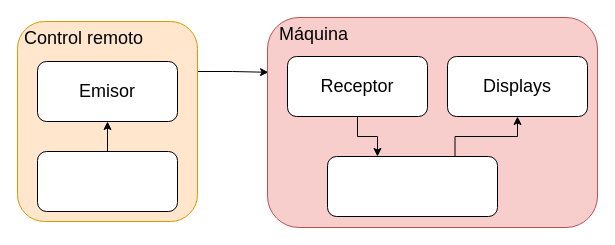
This 615x245 diagram has some shape labels left out. Each missing label, with the centre of its shape:
Microcontrolador: (x=107, y=181)
Microcontroladores: (x=412, y=186)
